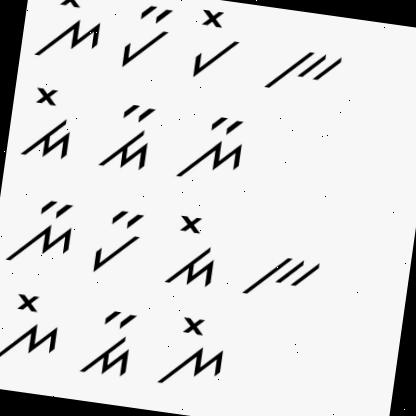dan: (87, 96, 165, 176), (77, 302, 144, 380)
do: (161, 210, 232, 292), (14, 82, 80, 164)
go: (183, 5, 242, 85)
nan: (173, 106, 255, 194), (0, 193, 84, 272)
no: (154, 311, 236, 394), (0, 286, 66, 373), (33, 0, 107, 66)
pan: (115, 0, 179, 74), (86, 202, 145, 279)
